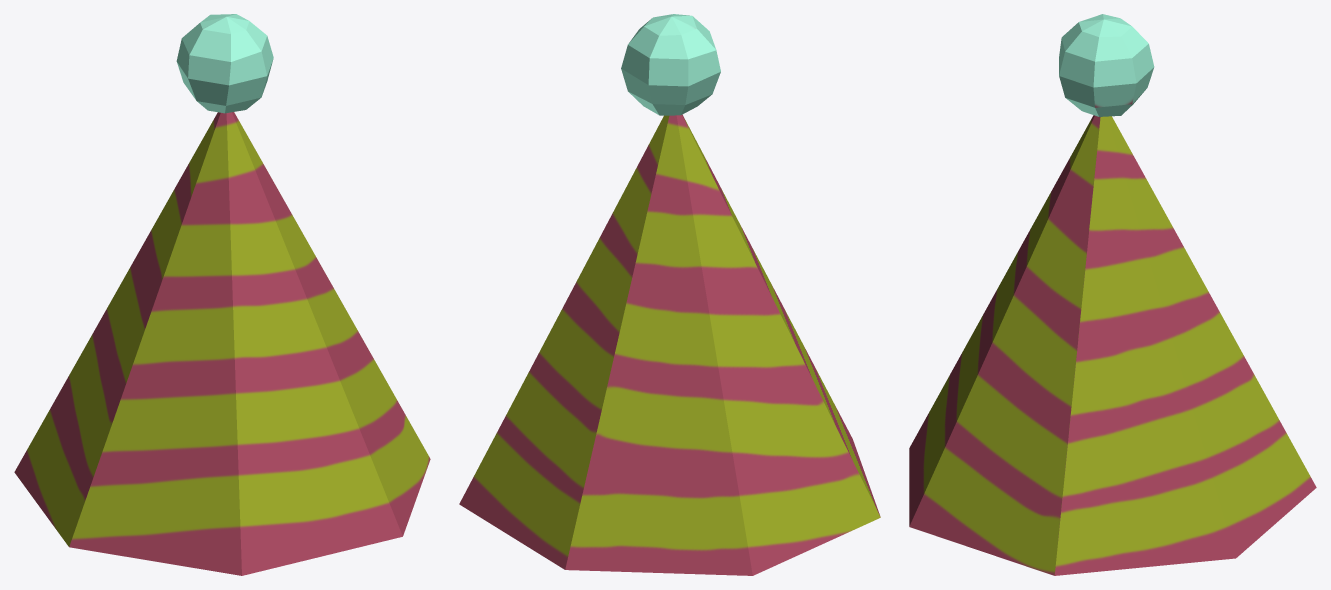
The model's file is PartyHat_2.fbx.
The picture shows the model from 3 angles, left to right: view 1: azimuth 30°, elevation 25°; view 2: azimuth 150°, elevation 25°; view 3: azimuth 270°, elevation 25°; orthographic projection.
Parts seen in each view (by area): view 1: Partyhat two; view 2: Partyhat two; view 3: Partyhat two.
Part boxes in pixels (x1=…): Partyhat two: x1=14, y1=14, x2=430, y2=575; Partyhat two: x1=459, y1=14, x2=880, y2=575; Partyhat two: x1=909, y1=14, x2=1316, y2=575.
Bounding box in the file's own units: 195 × 241 × 190.
